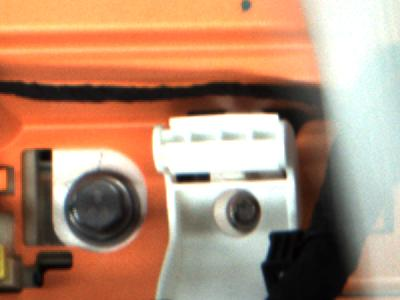nut_b: (59, 169, 152, 247)
